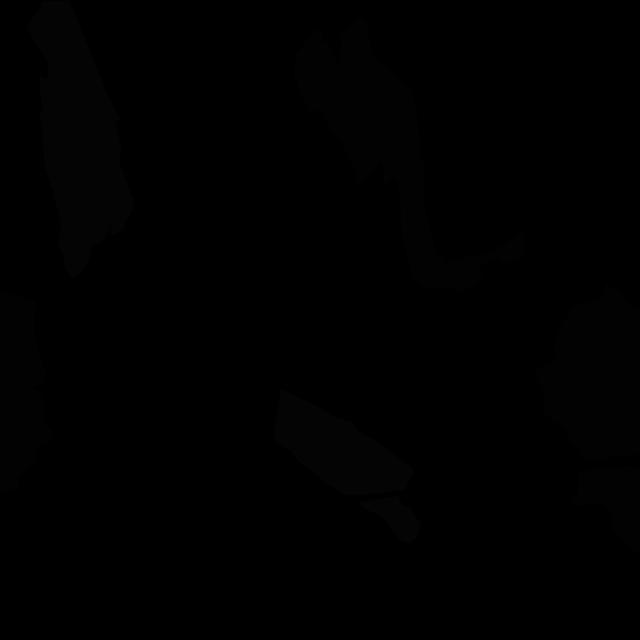cardboard: (293, 17, 525, 291), (534, 284, 640, 461), (0, 291, 54, 491), (571, 465, 640, 557)
soft_plastic: (27, 1, 135, 278), (275, 389, 414, 495), (360, 496, 422, 544)
